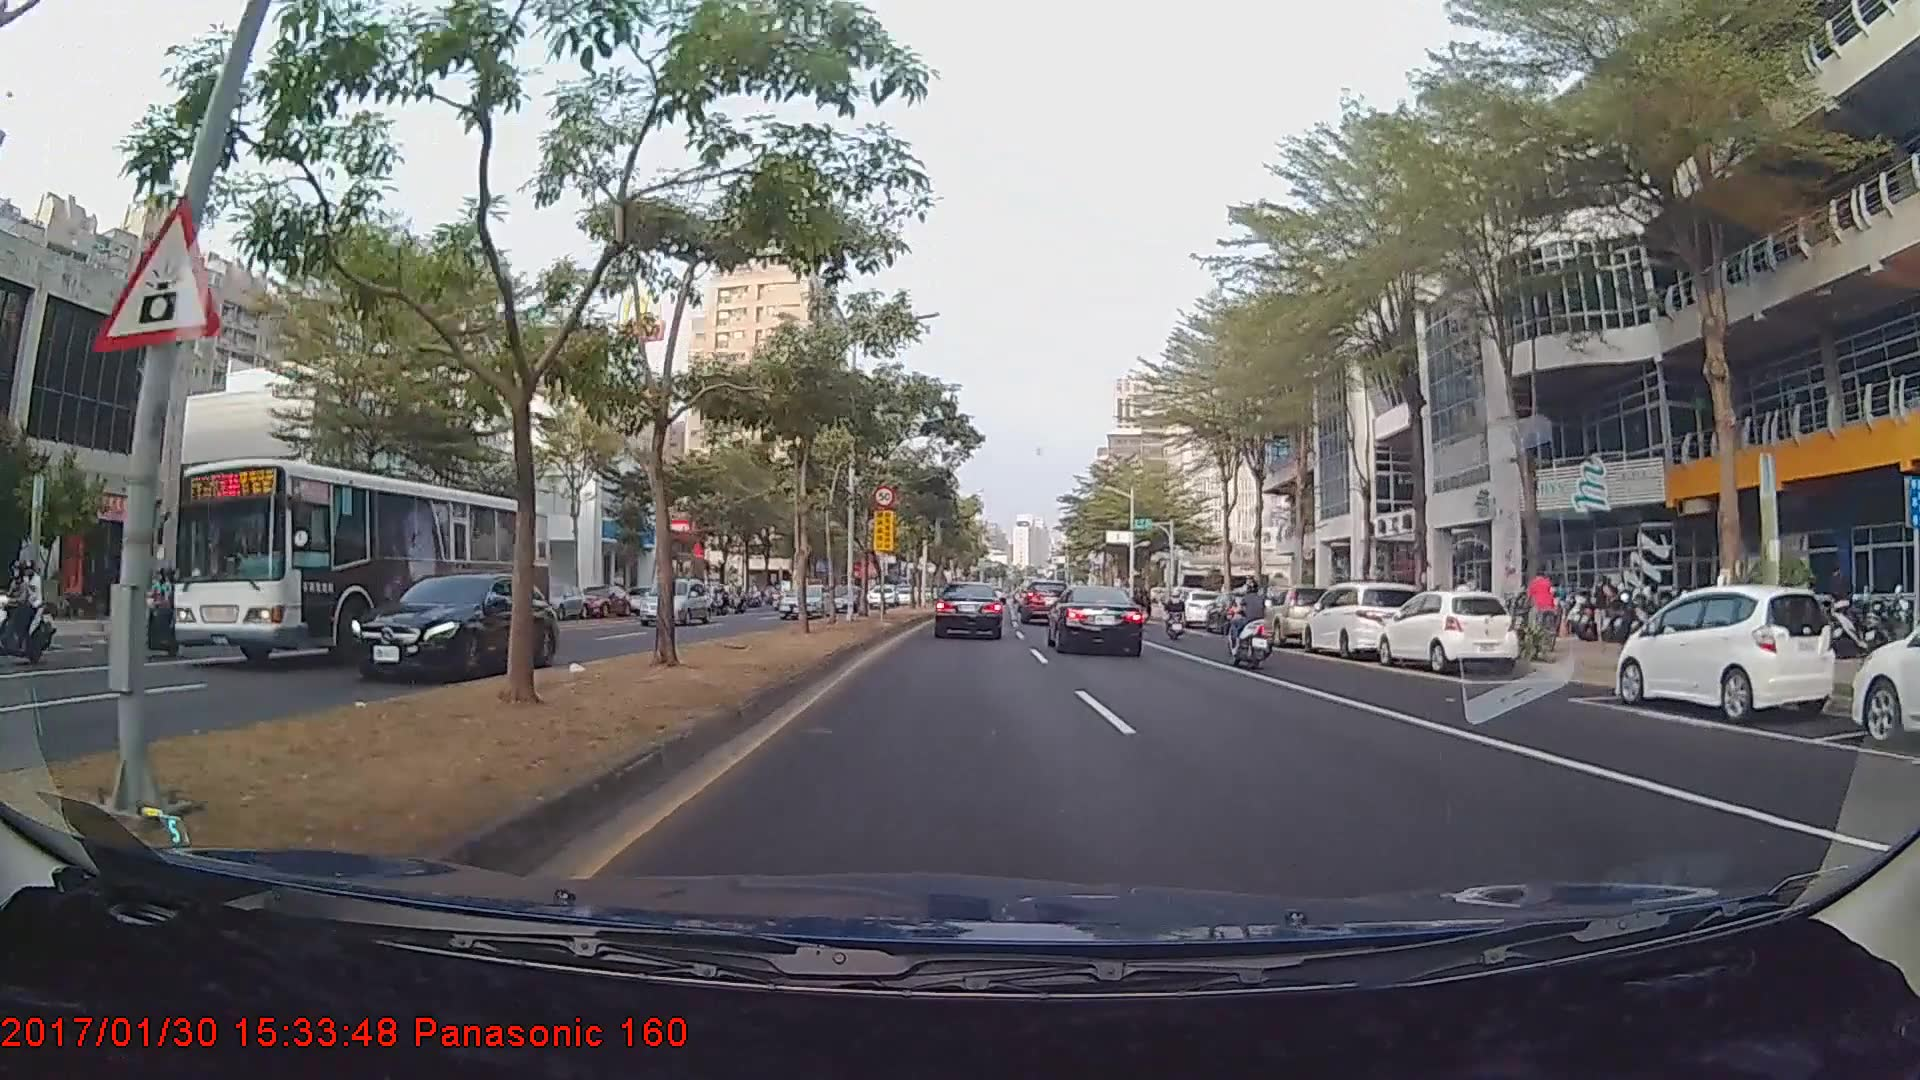rider: (1, 563, 58, 672), (1221, 582, 1287, 670), (1518, 568, 1567, 658), (1162, 586, 1192, 644)
vehicle: (165, 453, 550, 668), (1615, 583, 1827, 719), (345, 568, 560, 682), (1840, 591, 1920, 745), (1380, 587, 1516, 674), (1305, 581, 1419, 662), (1048, 583, 1144, 656), (1252, 586, 1340, 648), (933, 580, 1005, 640), (638, 574, 709, 624), (1021, 582, 1070, 627), (779, 583, 831, 618)
